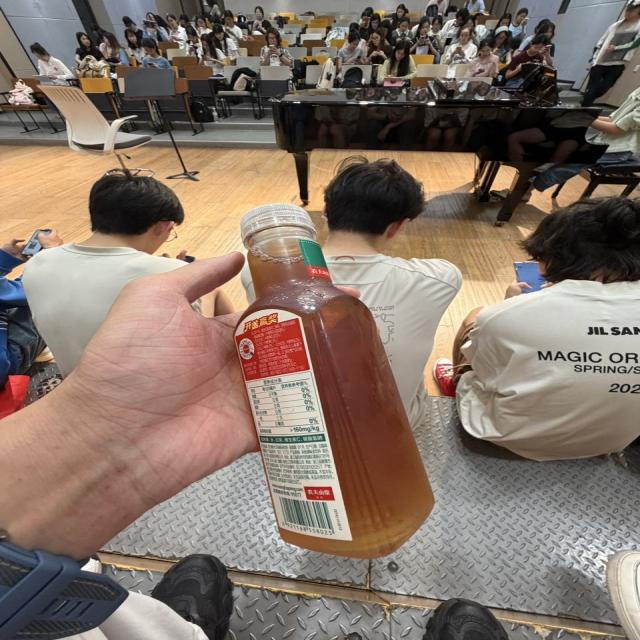high: (232, 204, 433, 558)
